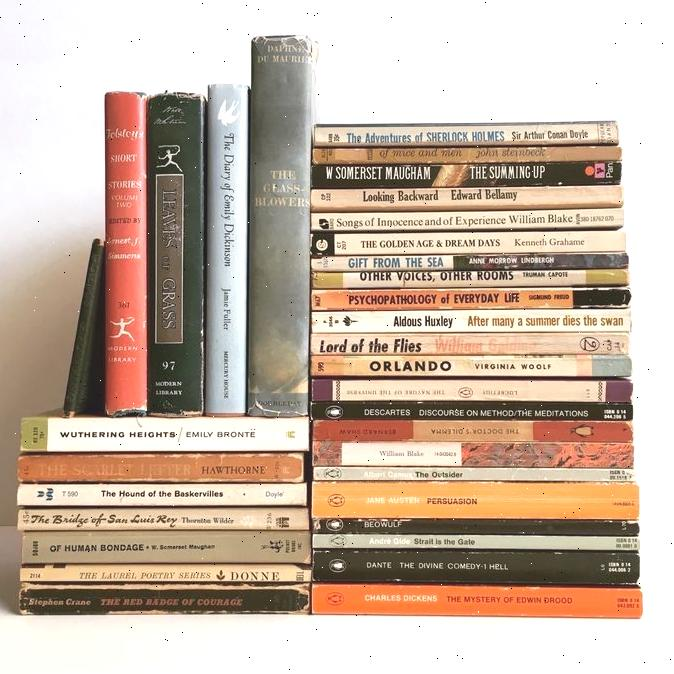book: (255, 36, 311, 410), (148, 94, 204, 410), (103, 92, 147, 413), (206, 88, 248, 410), (308, 482, 641, 515), (23, 413, 305, 450), (304, 587, 647, 617), (310, 550, 641, 581), (315, 439, 638, 469), (16, 586, 314, 616), (21, 453, 308, 484), (24, 534, 310, 565), (319, 161, 622, 188), (319, 186, 624, 212), (313, 209, 626, 234), (308, 121, 618, 146), (328, 231, 633, 256), (314, 378, 630, 402), (305, 420, 633, 443), (63, 239, 105, 417), (23, 482, 307, 508), (311, 356, 631, 379), (313, 311, 629, 334), (311, 288, 626, 311), (311, 517, 640, 539), (313, 253, 627, 275), (310, 337, 629, 358), (314, 533, 645, 553), (312, 269, 623, 290), (308, 402, 626, 422), (313, 466, 643, 485), (320, 145, 626, 165), (23, 564, 311, 585), (25, 513, 309, 532)
